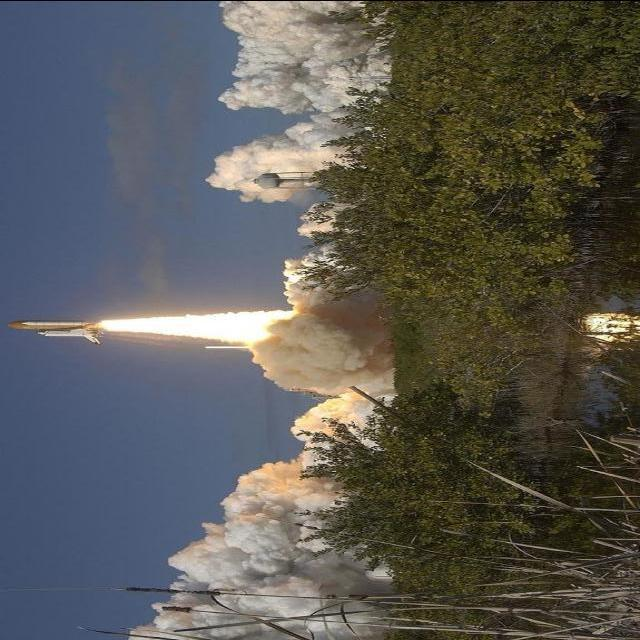missile: (8, 312, 106, 353)
